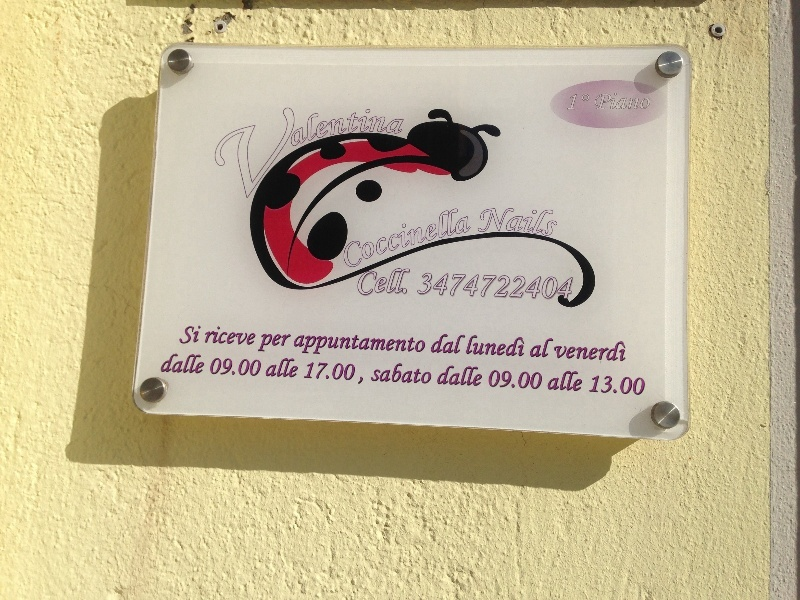text: (225, 99, 240, 210), (241, 99, 256, 210), (257, 99, 272, 210), (273, 99, 288, 210), (289, 99, 304, 210), (305, 99, 320, 210), (321, 99, 336, 210), (337, 99, 352, 210), (353, 99, 368, 210), (369, 99, 384, 210), (385, 99, 400, 210), (212, 99, 224, 210), (353, 203, 368, 271), (369, 203, 384, 271), (385, 203, 400, 271), (401, 203, 416, 271), (417, 203, 432, 271), (433, 203, 448, 271), (449, 203, 464, 271), (340, 203, 352, 271), (401, 99, 406, 210), (545, 207, 561, 237), (465, 203, 472, 271), (481, 207, 496, 237), (497, 207, 512, 237), (513, 207, 528, 237), (529, 207, 544, 237), (369, 266, 384, 296), (385, 266, 400, 296), (433, 273, 448, 301), (449, 273, 464, 301), (465, 273, 480, 301), (481, 273, 496, 301), (497, 273, 512, 301), (513, 273, 528, 301), (529, 273, 544, 301), (545, 273, 560, 301), (561, 273, 575, 301), (481, 335, 496, 358), (497, 335, 512, 358), (321, 362, 336, 385), (337, 362, 352, 385), (401, 266, 412, 296), (449, 365, 464, 387), (465, 365, 480, 387), (385, 363, 400, 384), (401, 363, 416, 384), (417, 363, 432, 384), (561, 341, 576, 362), (577, 341, 592, 362), (593, 341, 608, 362), (609, 341, 624, 362), (561, 371, 576, 392), (593, 375, 608, 396), (609, 375, 624, 396), (625, 375, 640, 396), (177, 354, 192, 374), (209, 326, 224, 346), (225, 326, 240, 346), (241, 326, 256, 346), (273, 334, 288, 354), (305, 335, 320, 355), (321, 335, 336, 355), (337, 335, 352, 355), (353, 335, 368, 355), (369, 335, 384, 355), (385, 335, 400, 355), (401, 335, 416, 355), (449, 334, 464, 354), (497, 370, 512, 390), (513, 370, 528, 390), (273, 359, 288, 378), (225, 358, 240, 377), (241, 358, 256, 377), (529, 370, 543, 390), (513, 335, 525, 358), (308, 362, 320, 385), (359, 266, 368, 296), (609, 92, 624, 110), (625, 92, 640, 110), (193, 354, 206, 374), (353, 362, 364, 385), (423, 273, 432, 301), (436, 334, 448, 354), (533, 337, 544, 358), (577, 93, 590, 110), (596, 92, 608, 110), (213, 358, 224, 377), (471, 335, 480, 358), (262, 334, 272, 354), (289, 359, 299, 378), (545, 337, 554, 358), (641, 92, 651, 110), (167, 354, 176, 374), (295, 335, 304, 355), (417, 335, 426, 355), (376, 363, 384, 384), (552, 371, 560, 392), (193, 326, 202, 344), (553, 341, 560, 362), (577, 371, 584, 392), (443, 365, 448, 387), (641, 375, 646, 396), (491, 370, 496, 390), (257, 358, 262, 377), (187, 326, 192, 344), (571, 93, 576, 110), (481, 365, 484, 387), (289, 334, 292, 354), (270, 359, 272, 378), (433, 363, 434, 384), (625, 341, 626, 362), (207, 326, 208, 346), (257, 326, 258, 346), (465, 334, 466, 354)
